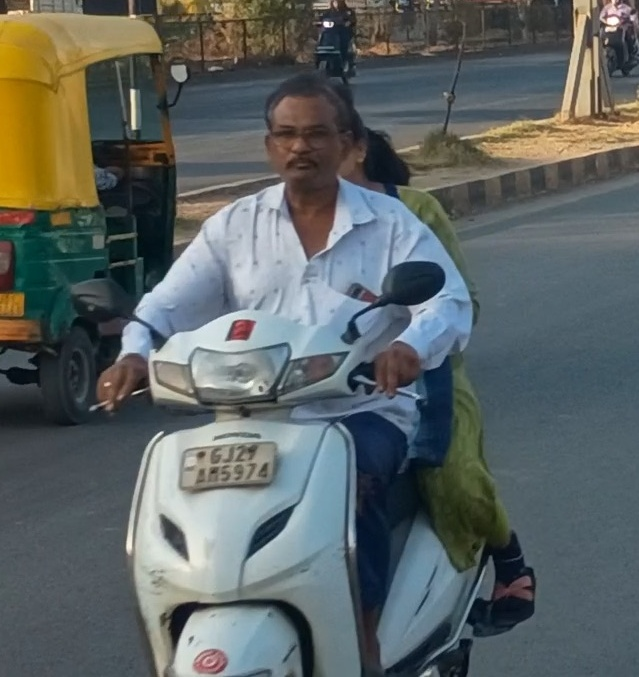BikeWithRider: (77, 66, 549, 677), (303, 0, 367, 90), (594, 0, 638, 79)
NoHelmet: (253, 70, 362, 195), (288, 87, 395, 178), (335, 109, 412, 184)
